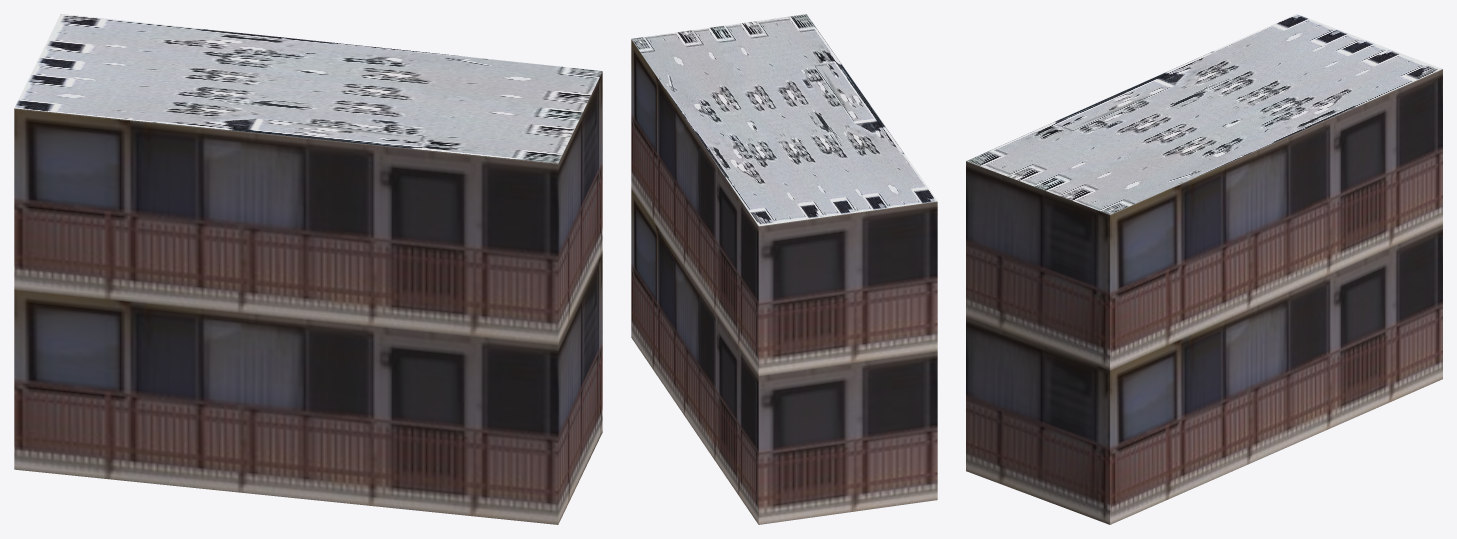
Rendered from ResTex__4758.fbx.
3 renders of one model, left to right at view 1: azimuth 30°, elevation 25°; view 2: azimuth 150°, elevation 25°; view 3: azimuth 270°, elevation 25°, orthographic. The views are drawn at different scales.
Parts seen in each view (by area): view 1: CityEngineMaterial_6_m, CityEngineMaterial_4_m; view 2: CityEngineMaterial_6_m, CityEngineMaterial_4_m; view 3: CityEngineMaterial_6_m, CityEngineMaterial_4_m.
Boxes of the visible parts, left/top/right/bottom form: CityEngineMaterial_6_m: left=14, top=72, right=602, bottom=524; CityEngineMaterial_4_m: left=14, top=14, right=602, bottom=163; CityEngineMaterial_6_m: left=631, top=39, right=937, bottom=524; CityEngineMaterial_4_m: left=631, top=14, right=937, bottom=226; CityEngineMaterial_6_m: left=966, top=69, right=1442, bottom=524; CityEngineMaterial_4_m: left=966, top=14, right=1442, bottom=214.
Size of the model in its own units: 8.34 by 6 by 8.36.
Materials: 2 (2 with a texture image).
